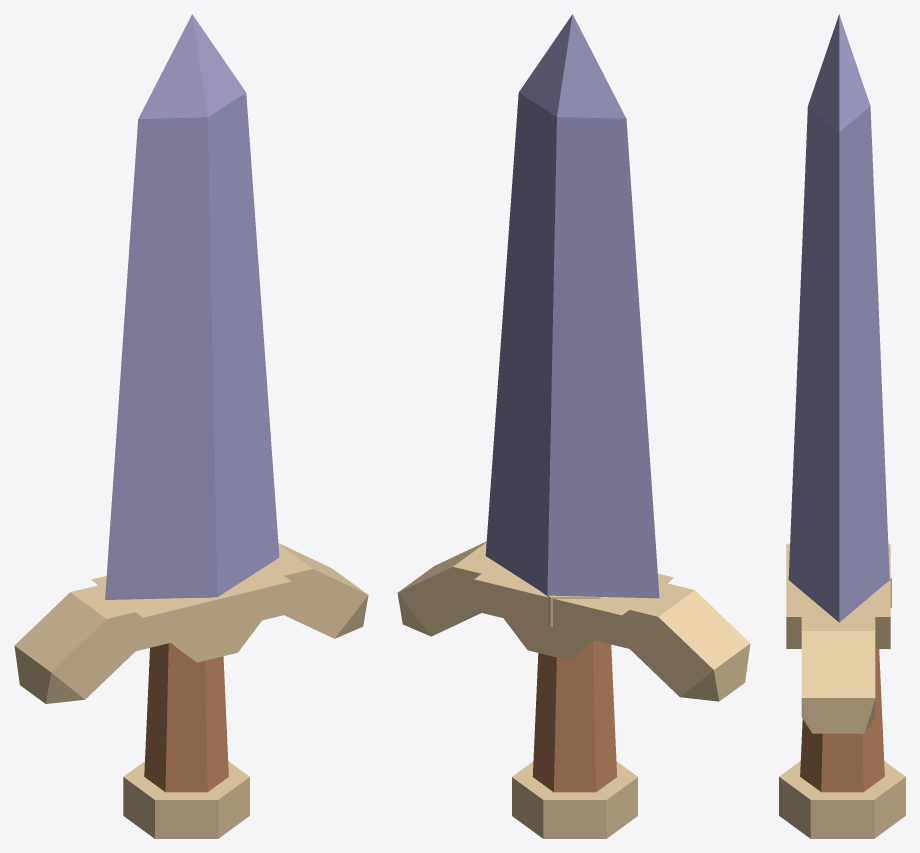
File: WolfsbaneDagger.fbx
3 renders of one model, left to right at view 1: azimuth 30°, elevation 25°; view 2: azimuth 150°, elevation 25°; view 3: azimuth 270°, elevation 25°, orthographic.
Visible parts, largest first — view 1: mergedBlocks; view 2: mergedBlocks; view 3: mergedBlocks.
Boxes of the visible parts, <box> form: mergedBlocks: <box>14,14,368,838</box>; mergedBlocks: <box>397,14,750,838</box>; mergedBlocks: <box>779,14,905,838</box>.
Size of the model in its own units: 5.6 by 13.52 by 1.94.
